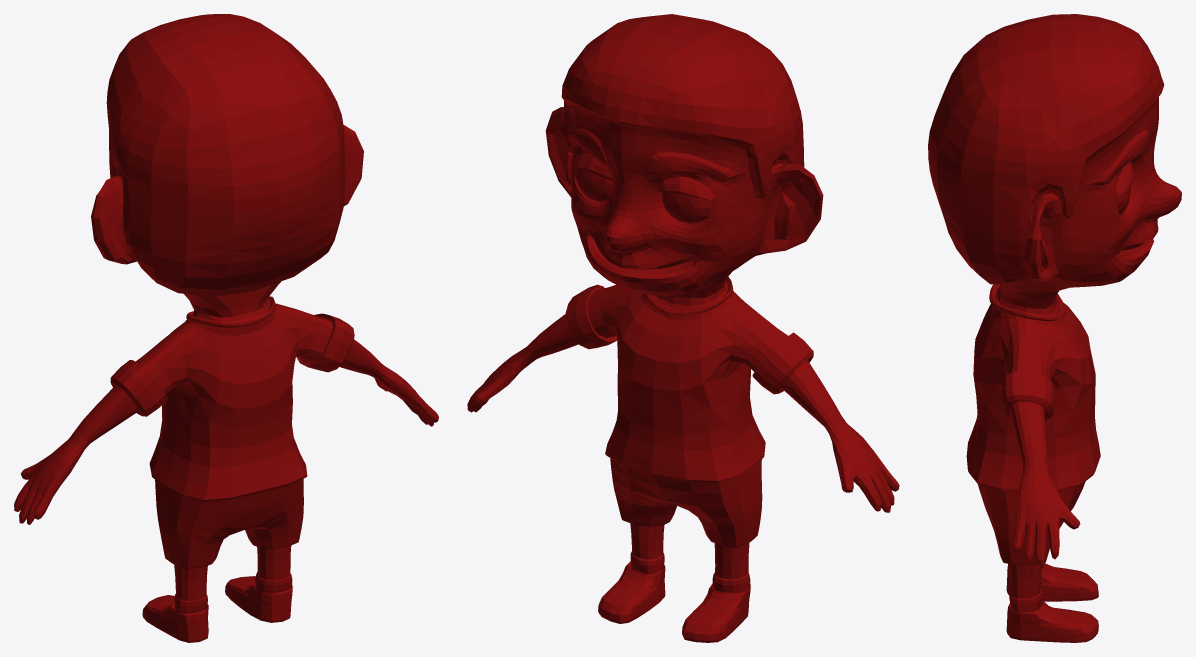
The model's file is postac_test_v4.obj.
3 renders of one model, left to right at view 1: azimuth 30°, elevation 25°; view 2: azimuth 150°, elevation 25°; view 3: azimuth 270°, elevation 25°, orthographic.
Visible parts, largest first — view 1: Plane; view 2: Plane; view 3: Plane.
Boxes of the visible parts, x1,y1,x2,y2 form: Plane: (14,14,438,642); Plane: (467,14,899,642); Plane: (928,14,1181,642).
Size of the model in its own units: 1.01 by 1.36 by 0.537.
